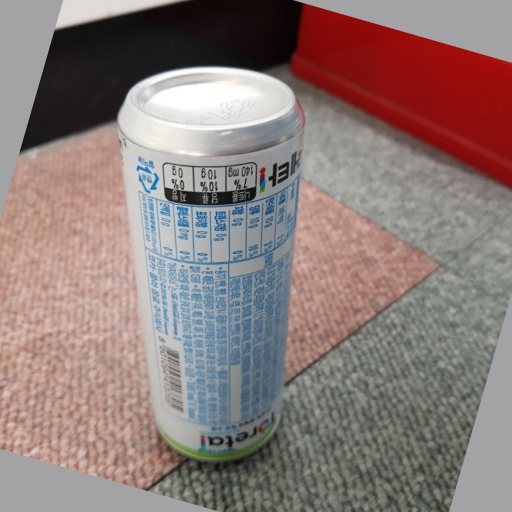Metal_0: (115, 66, 305, 466)
